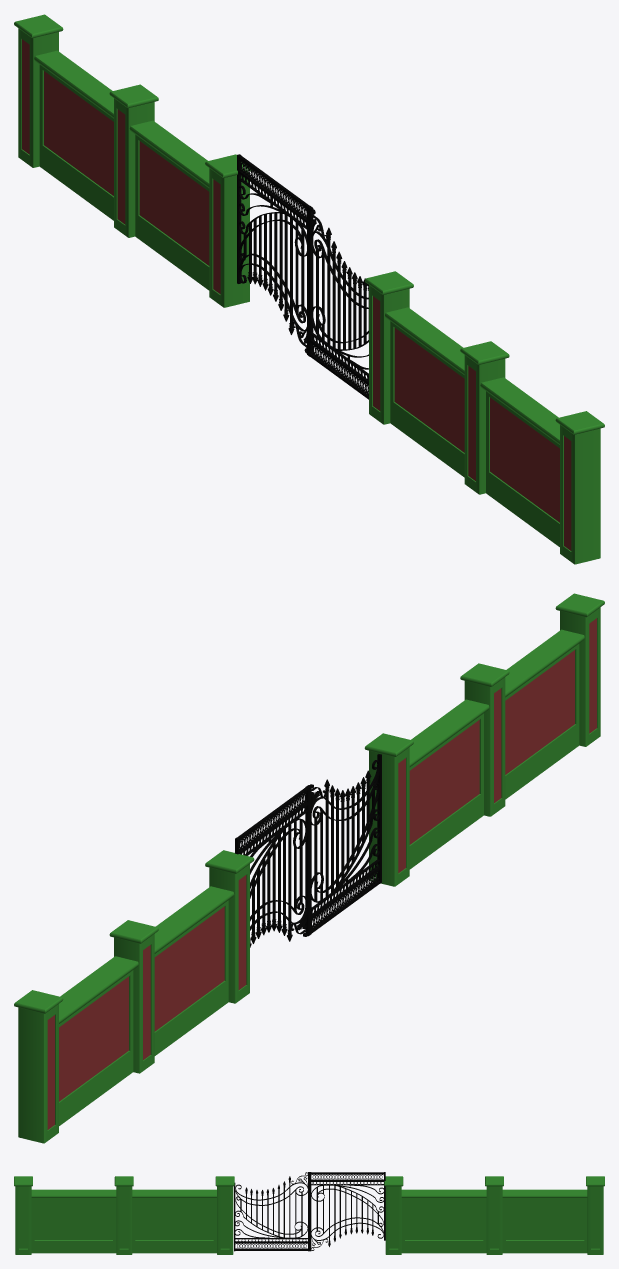
File: wall1.FBX
3 views of the same model, one above another, from view 1: azimuth 30°, elevation 25°; view 2: azimuth 150°, elevation 25°; view 3: azimuth 270°, elevation 25° (orthographic). The views are drawn at different scales.
Visible parts, largest first — view 1: Plane002, Plane009, Box004, Plane005, Plane011, Box002 (×2), Box124, Box128, Box125, Box005, Box084, Box011 (+10 smaller); view 2: Plane009, Plane002, Box127, Plane005, Plane011, Box002, Box124, Box005, Box128, Box001, Box011, Box003 (+10 smaller); view 3: Box005 (×2), Box002 (×2), Box124, Box128, Box003, Box001, Box125, Box004, Box126, Box127, Box011, Box084 (+11 smaller).
Boxes of the visible parts, bbox=[...] form: Plane002: bbox=[394, 328, 464, 452]; Plane009: bbox=[139, 141, 209, 265]; Box004: bbox=[555, 411, 604, 564]; Plane005: bbox=[490, 397, 559, 522]; Plane011: bbox=[44, 71, 113, 195]; Box002 (×2): bbox=[308, 207, 464, 477]; Box124: bbox=[129, 120, 209, 290]; Box128: bbox=[34, 50, 113, 220]; Box125: bbox=[205, 154, 252, 307]; Box005: bbox=[480, 377, 559, 546]; Box084: bbox=[243, 213, 304, 334]; Box011: bbox=[316, 227, 368, 349]; Plane009: bbox=[154, 906, 224, 1031]; Plane002: bbox=[409, 720, 479, 844]; Box127: bbox=[14, 990, 63, 1143]; Plane005: bbox=[505, 650, 574, 774]; Plane011: bbox=[59, 976, 128, 1101]; Box002: bbox=[409, 699, 489, 869]; Box124: bbox=[154, 886, 234, 1055]; Box005: bbox=[505, 629, 584, 799]; Box128: bbox=[59, 956, 138, 1125]; Box001: bbox=[364, 733, 413, 886]; Box011: bbox=[314, 770, 374, 901]; Box003: bbox=[460, 663, 509, 816]; Box005 (×2): bbox=[31, 1189, 307, 1253]; Box002 (×2): bbox=[132, 1172, 309, 1253]; Box124: bbox=[401, 1189, 486, 1253]; Box128: bbox=[502, 1189, 587, 1253]; Box003: bbox=[114, 1176, 133, 1254]; Box001: bbox=[215, 1176, 234, 1254]; Box125: bbox=[384, 1176, 403, 1254]; Box004: bbox=[14, 1176, 32, 1254]; Box126: bbox=[485, 1176, 503, 1254]; Box127: bbox=[586, 1176, 604, 1254]; Box011: bbox=[240, 1176, 302, 1238]; Box084: bbox=[316, 1185, 378, 1246].
Size of what is drawn, in the model's own units: 47.43 by 218 by 1472.
